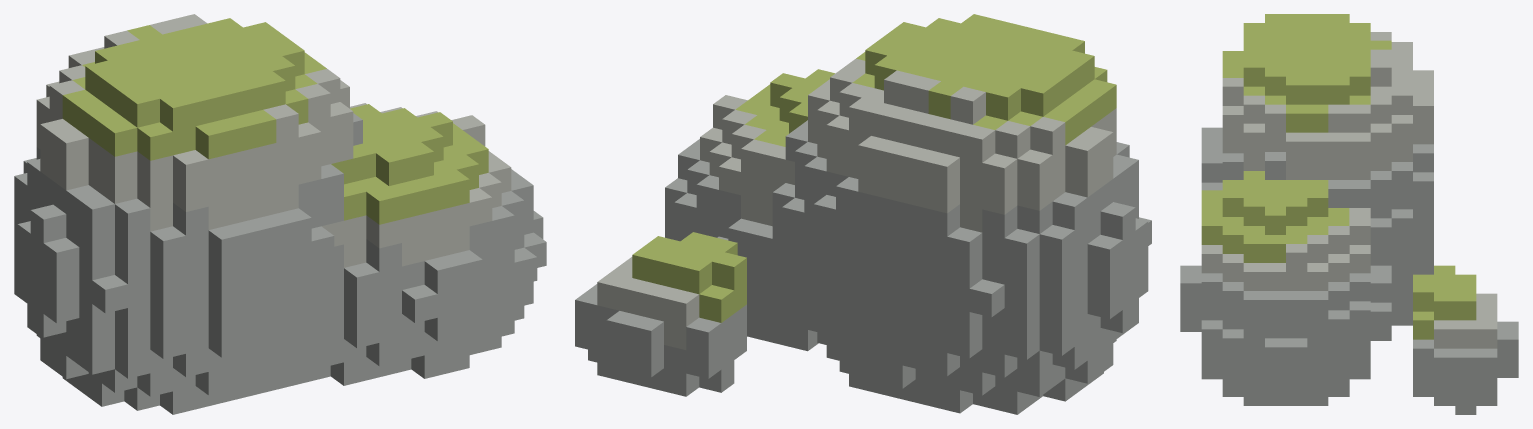
The model's file is swamp_boulder.glb.
3 views of the same model, side by side, from view 1: azimuth 30°, elevation 25°; view 2: azimuth 150°, elevation 25°; view 3: azimuth 270°, elevation 25° (orthographic). The views are drawn at different scales.
Size of the model in its own units: 0.875 by 0.5417 by 0.6667.
